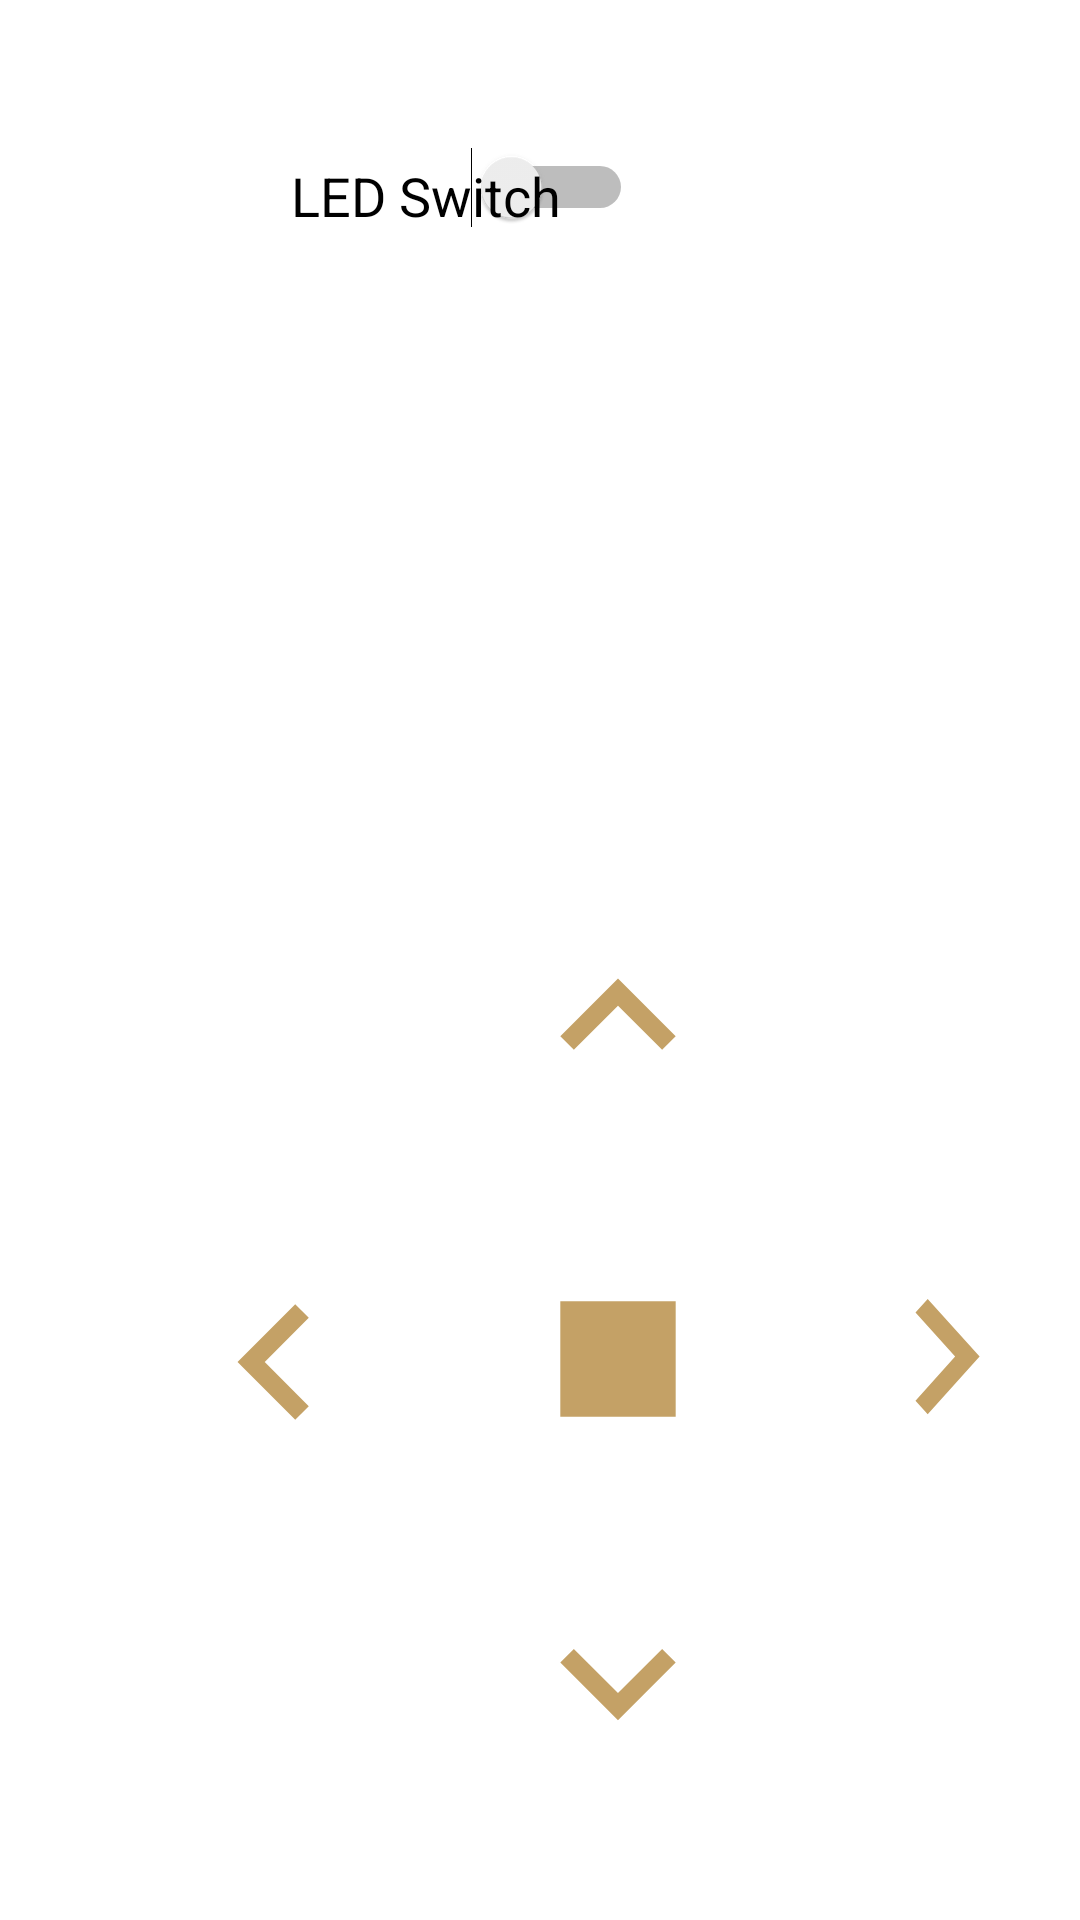

Named icons in this screenshot (1080x1920) and their bounding boxes, (x1, y1, x2, y2):
down action: (560, 1649, 676, 1720)
left action: (238, 1304, 309, 1420)
right action: (915, 1299, 980, 1414)
stop action: (560, 1301, 676, 1417)
up action: (560, 979, 676, 1050)
